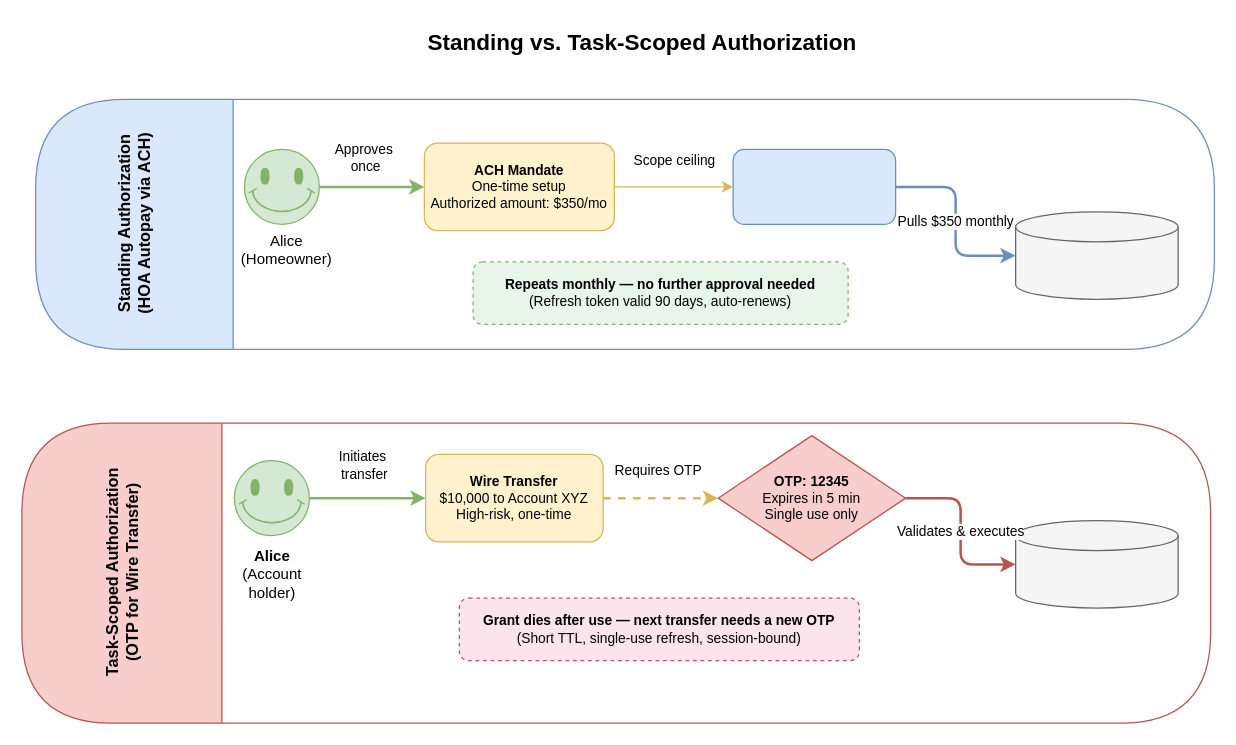
This 1236x745 diagram has some shape labels left out. Each missing label, with the centre of its shape:
Bank (ACH Payment Service): the point at 1096,255
Bank (Wire Transfer Service): the point at 1096,563
HOA (Reporting Agent): the point at 814,186
